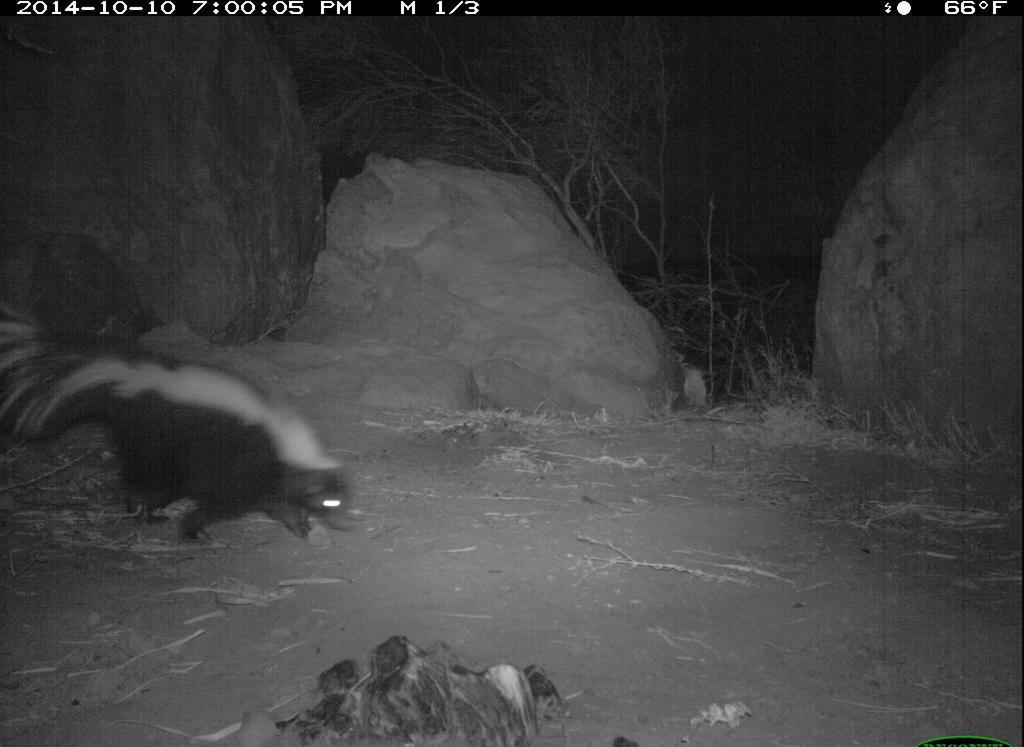skunk: (2, 305, 363, 547)
